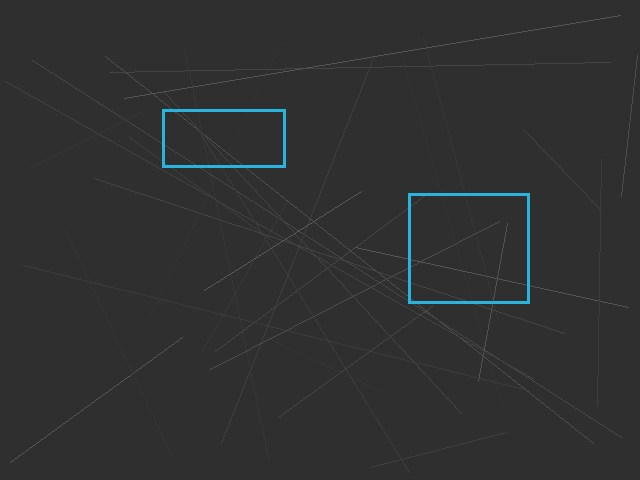D10: (408, 193, 529, 303), (162, 109, 285, 167)
